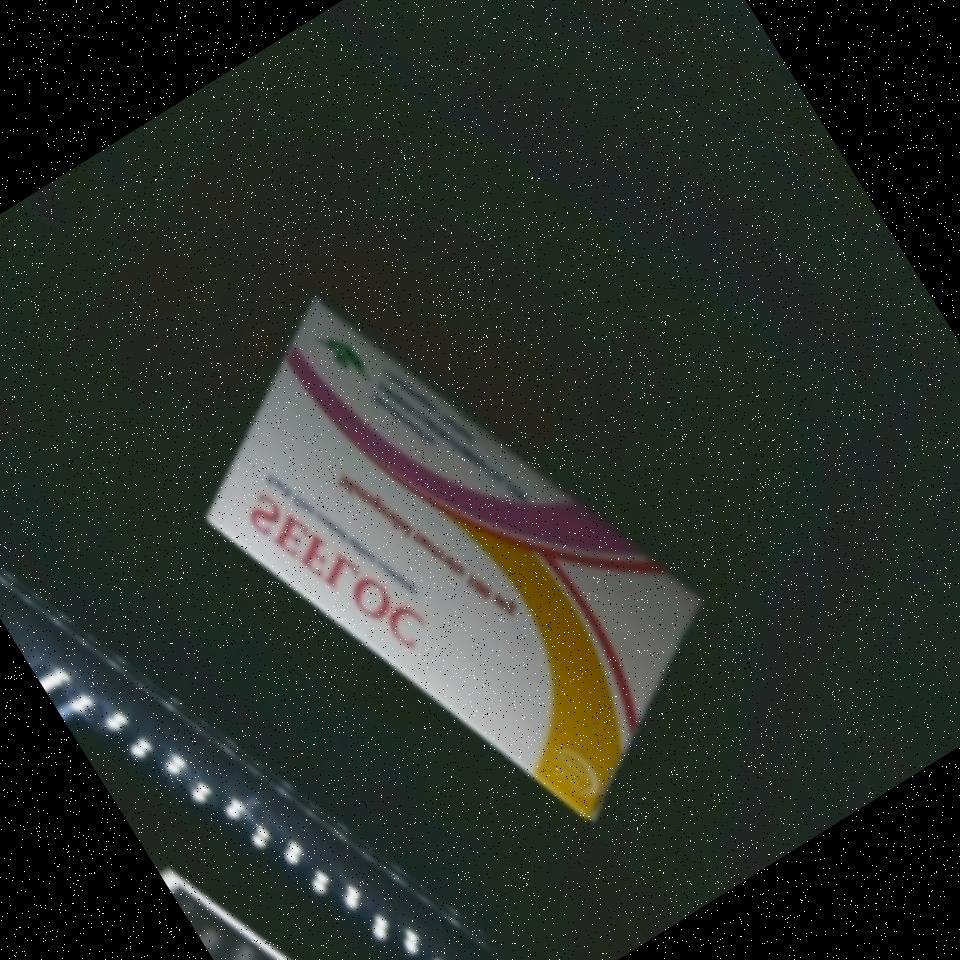sefloc: (164, 297, 741, 822)
